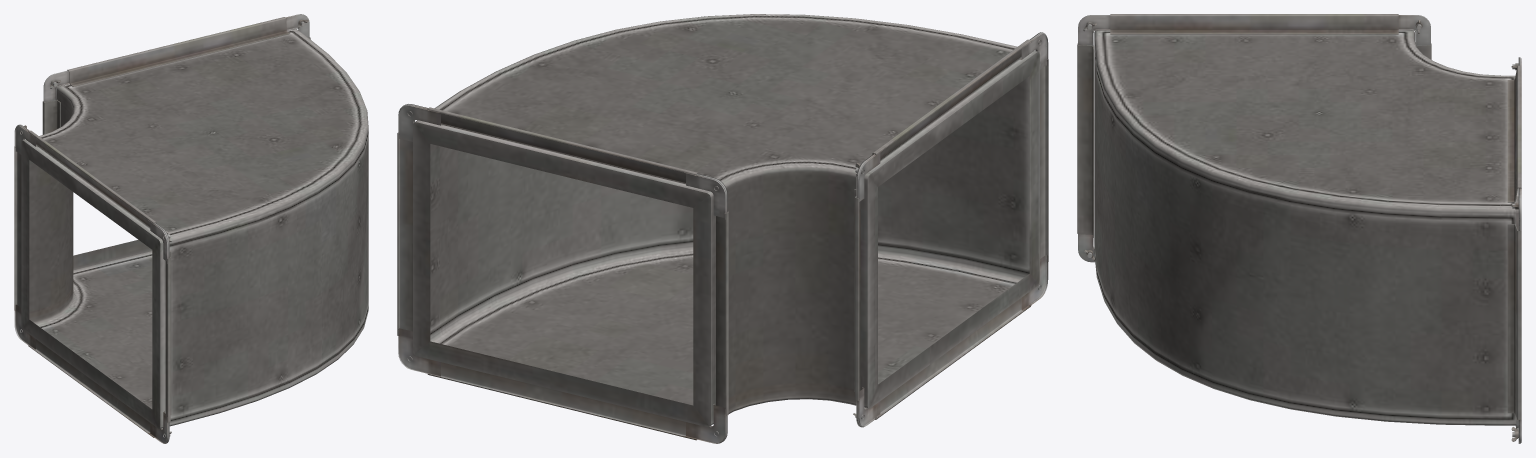
File: bend_02.gltf
The picture shows the model from 3 angles, left to right: view 1: azimuth 30°, elevation 25°; view 2: azimuth 150°, elevation 25°; view 3: azimuth 270°, elevation 25°; orthographic projection. The views are drawn at different scales.
Parts seen in each view (by area): view 1: bend_02; view 2: bend_02; view 3: bend_02.
Part boxes in pixels (<box>): bend_02: <box>14,14,368,443</box>; bend_02: <box>397,14,1048,443</box>; bend_02: <box>1077,14,1521,443</box>.
Bounding box in the file's own units: 0.8318 × 0.5126 × 0.8318.
1 material, 1 textured.
